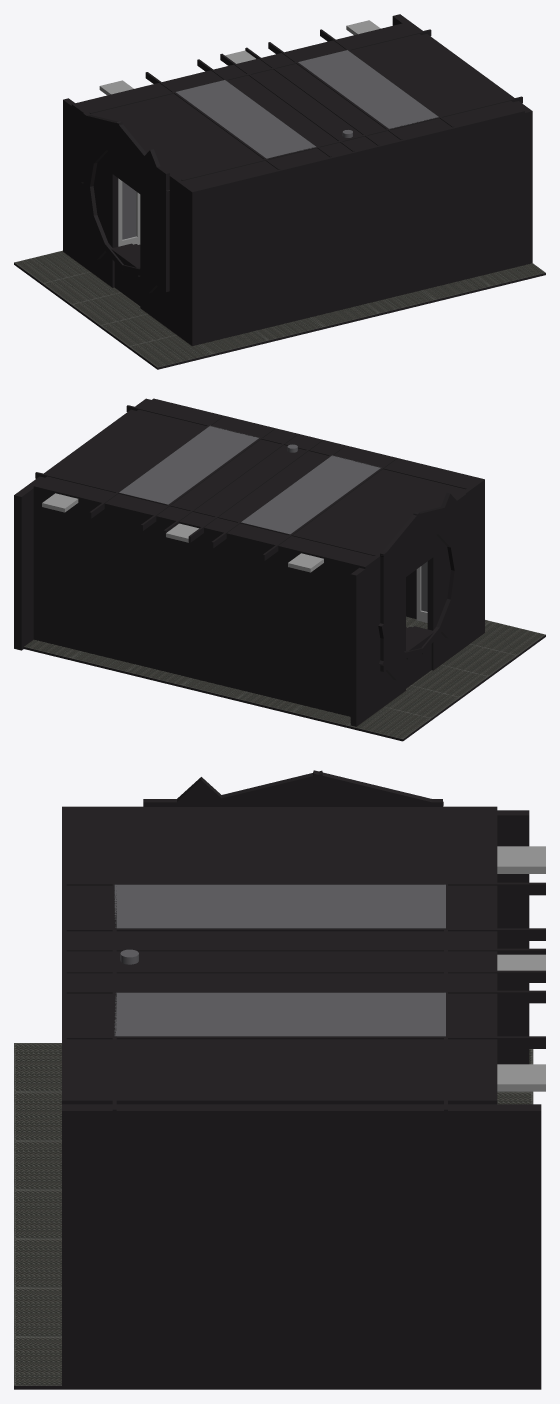
Rendered from Maintenance Tunnel Room.obj.
3 renders of one model, top to bottom at view 1: azimuth 30°, elevation 25°; view 2: azimuth 150°, elevation 25°; view 3: azimuth 270°, elevation 25°, orthographic. The views are drawn at different scales.
Visible parts, largest first — view 1: Part21, Part2, Part24, Part23, Part9, Part10, Part103, Part17, Part55, Part51, Part86, Part53 (+22 smaller); view 2: Part26, Part2, Part24, Part23, Part10, Part9, Part103, Part55, Part51, Part82, Part86, Part53 (+26 smaller); view 3: Part103, Part2, Part10, Part9, Part24, Part15, Part127, Part16, Part39, Part45, Part47, Part55 (+14 smaller).
Boxes of the visible parts, x1,y1,x2,y2 form: Part21: (189, 113, 524, 346); Part2: (71, 23, 524, 194); Part24: (63, 98, 118, 287); Part23: (140, 178, 188, 343); Part9: (298, 50, 438, 128); Part10: (176, 80, 315, 158); Part103: (392, 14, 532, 264); Part17: (156, 166, 169, 291); Part55: (129, 335, 212, 367); Part51: (71, 292, 147, 325); Part86: (43, 272, 120, 304); Part53: (100, 314, 176, 346); Part26: (33, 488, 358, 716); Part2: (33, 398, 484, 568); Part24: (350, 558, 405, 726); Part23: (427, 484, 481, 670); Part10: (241, 455, 380, 534); Part9: (119, 425, 258, 504); Part103: (14, 398, 150, 650); Part55: (470, 621, 545, 655); Part51: (411, 665, 488, 697); Part82: (348, 707, 430, 739); Part86: (384, 685, 459, 718); Part53: (441, 644, 516, 676); Part103: (62, 1104, 541, 1389); Part2: (62, 806, 497, 1104); Part10: (114, 884, 445, 928); Part9: (114, 992, 445, 1036); Part24: (497, 810, 529, 1064); Part15: (304, 770, 443, 806); Part127: (14, 1336, 61, 1385); Part16: (221, 770, 330, 806); Part39: (14, 1190, 61, 1238); Part45: (14, 1092, 61, 1140); Part47: (14, 1141, 61, 1189); Part55: (14, 1043, 61, 1091).
Size of the model in its own units: 41.04 by 17.44 by 26.63.
8 materials, 3 textured.
